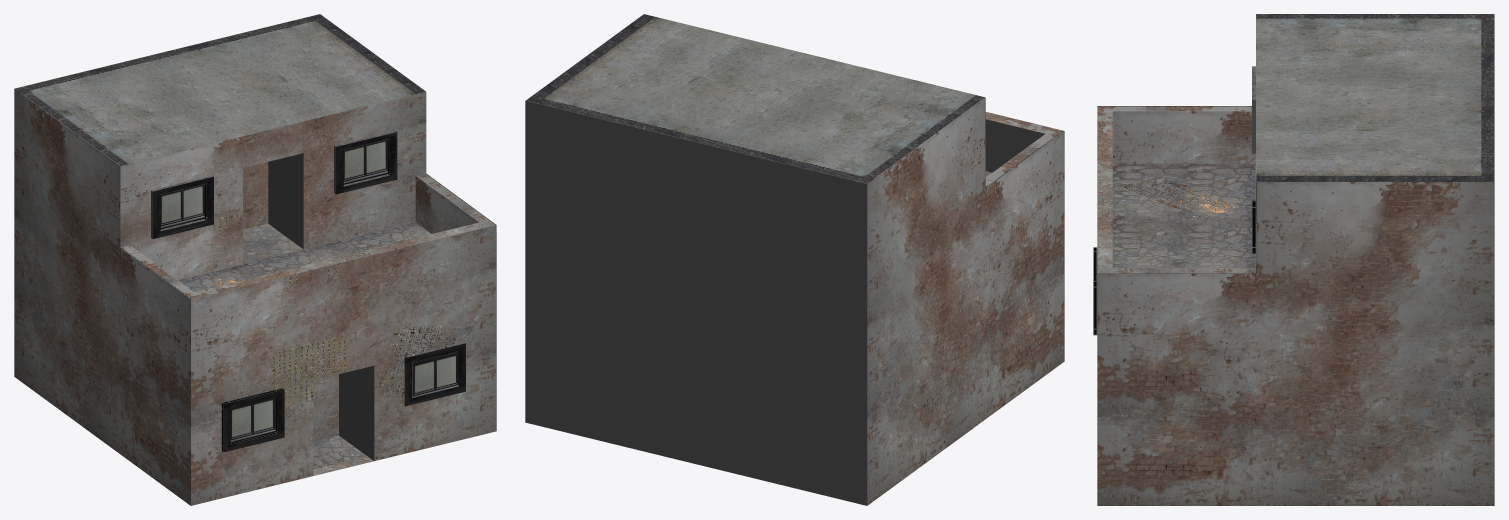
File: house2Model.fbx
The picture shows the model from 3 angles, left to right: view 1: azimuth 30°, elevation 25°; view 2: azimuth 150°, elevation 25°; view 3: azimuth 270°, elevation 25°; orthographic projection. The views are drawn at different scales.
Parts seen in each view (by area): view 1: building2; view 2: building2; view 3: building2.
Boxes of the visible parts, box(x1,y1,x2,y2) form: building2: box(14, 14, 496, 505); building2: box(525, 14, 1064, 505); building2: box(1093, 14, 1494, 505).
Size of the model in its own units: 10 by 9 by 10.1.
Materials: 1 (1 with a texture image).
